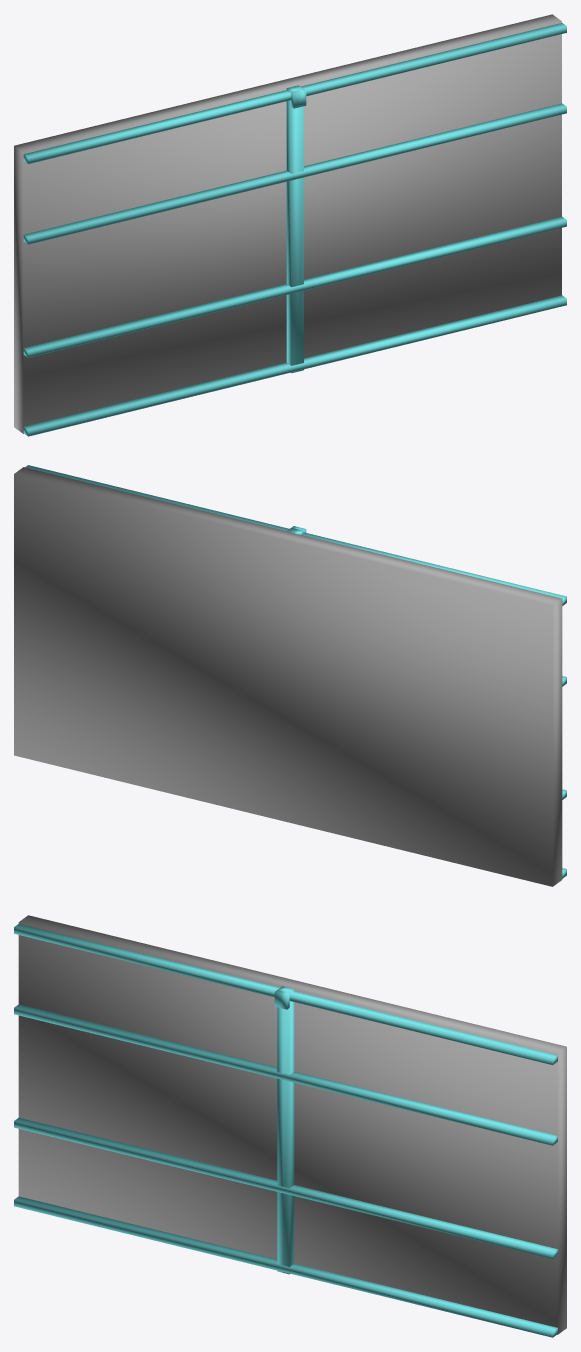
File: Soundbarrier.fbx
3 views of the same model, one above another, from view 1: azimuth 30°, elevation 25°; view 2: azimuth 150°, elevation 25°; view 3: azimuth 330°, elevation 25° (orthographic).
Visible parts, largest first — view 1: Soundbarrier; view 2: Soundbarrier; view 3: Soundbarrier.
Boxes of the visible parts, x1,y1,x2,y2 form: Soundbarrier: (14,14,566,436); Soundbarrier: (14,465,566,886); Soundbarrier: (14,915,566,1337).
Bounding box in the file's own units: 401 × 200 × 21.68.
